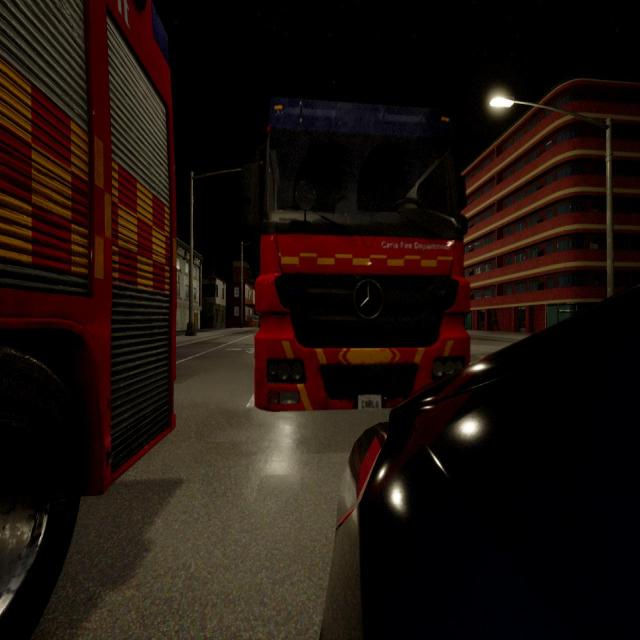Vehicle: (322, 289, 640, 640), (1, 0, 173, 640), (257, 105, 469, 412)
